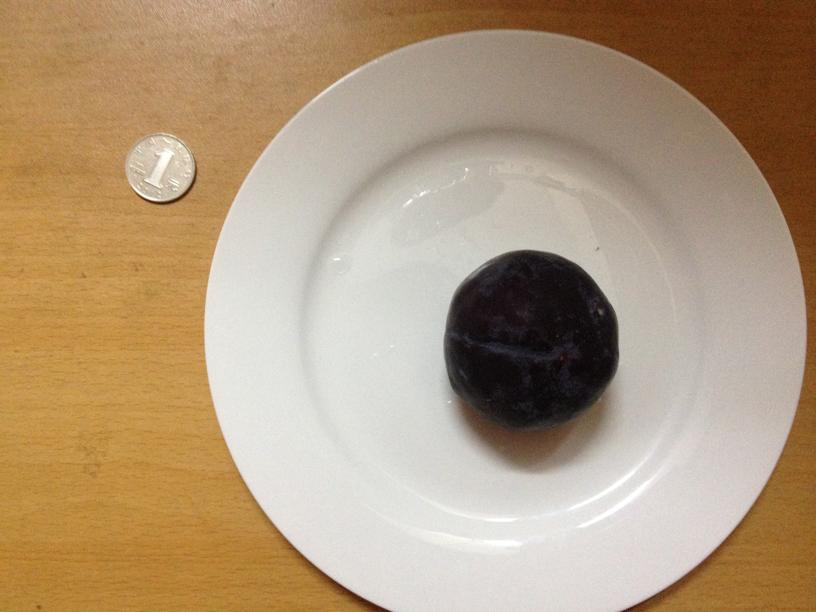coin: (123, 130, 195, 201)
plum: (442, 246, 617, 423)
